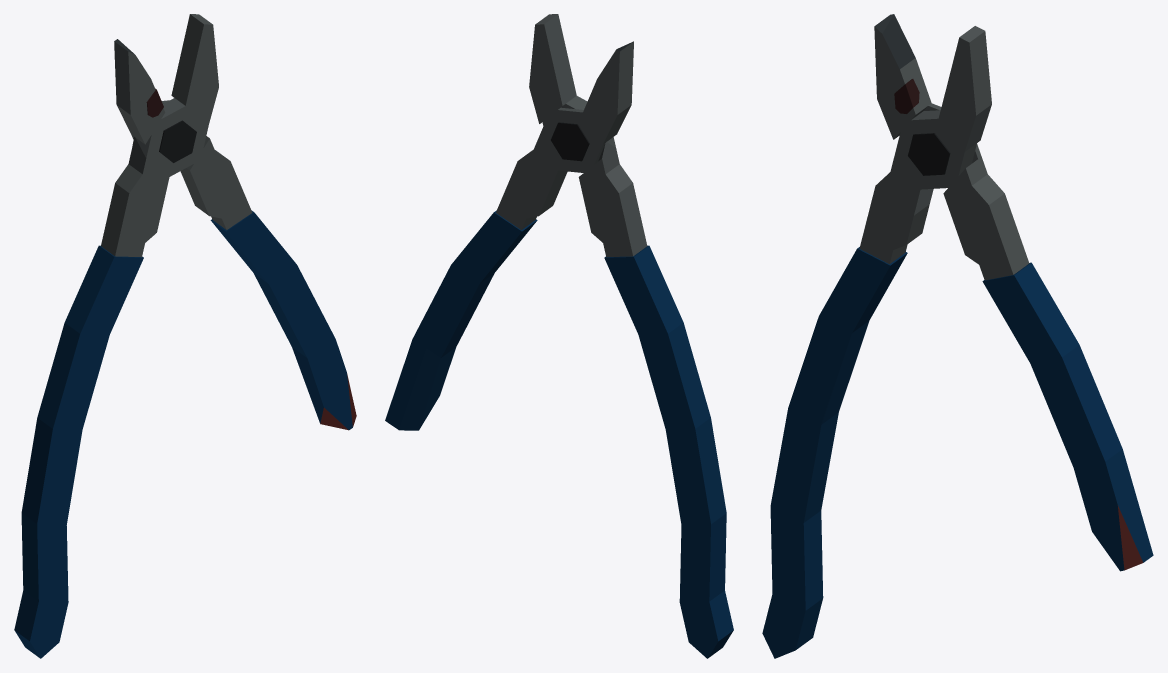
Rendered from SM_Pliers.gltf.
3 renders of one model, left to right at view 1: azimuth 30°, elevation 25°; view 2: azimuth 150°, elevation 25°; view 3: azimuth 330°, elevation 25°, orthographic. The views are drawn at different scales.
Parts seen in each view (by area): view 1: SM_Pliers, HOLDER_FOR)Pliers; view 2: SM_Pliers, HOLDER_FOR)Pliers; view 3: SM_Pliers, HOLDER_FOR)Pliers.
Part boxes in pixels (<box>): SM_Pliers: <box>14,14,218,658</box>; HOLDER_FOR)Pliers: <box>114,39,356,430</box>; SM_Pliers: <box>529,14,733,658</box>; HOLDER_FOR)Pliers: <box>385,41,633,430</box>; SM_Pliers: <box>762,26,991,658</box>; HOLDER_FOR)Pliers: <box>874,14,1153,571</box>.
Bounding box in the file's own units: 0.1024 × 0.1744 × 0.00835.
